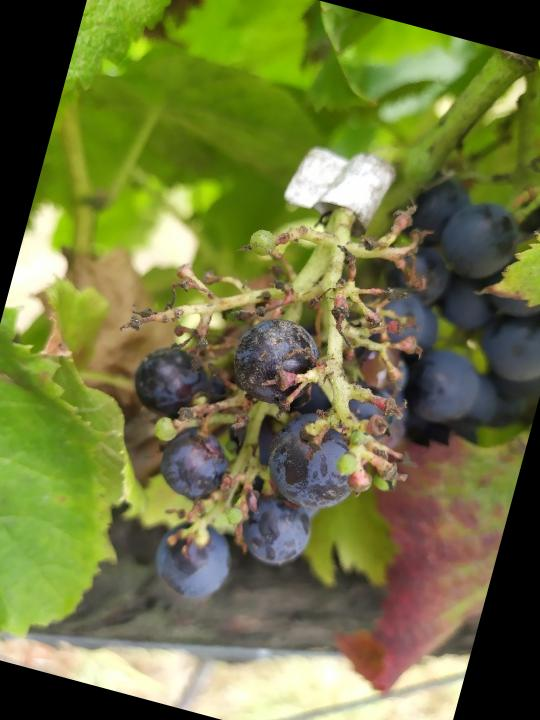grape: (52, 133, 487, 651)
